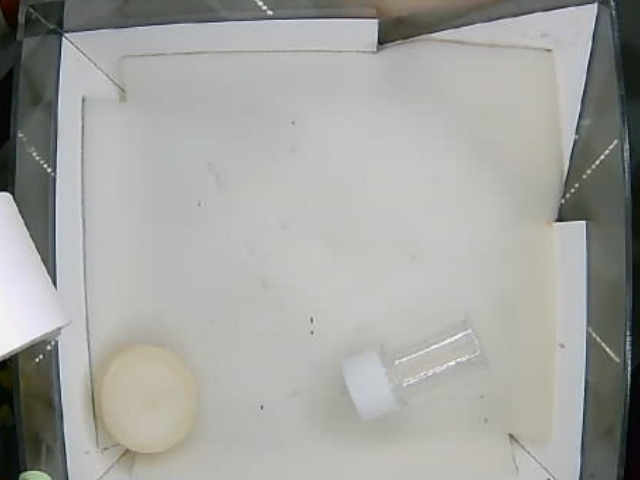Bottle: (344, 314, 486, 415)
Mooli: (94, 347, 202, 456)
